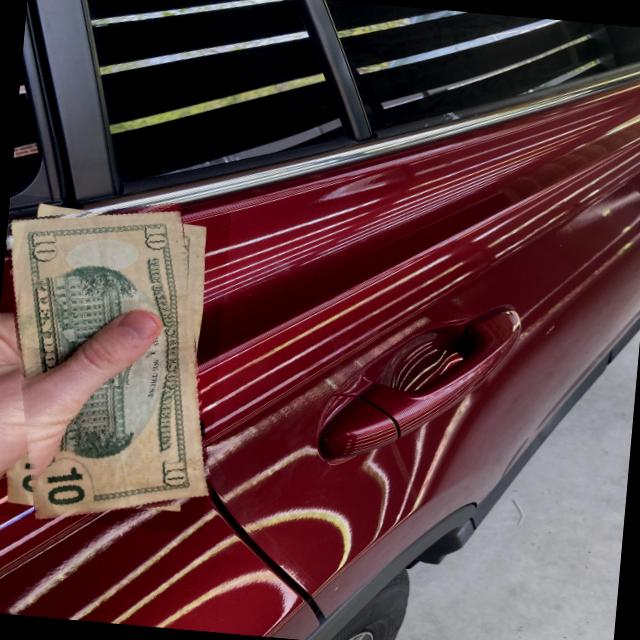ten: (8, 204, 208, 519)
